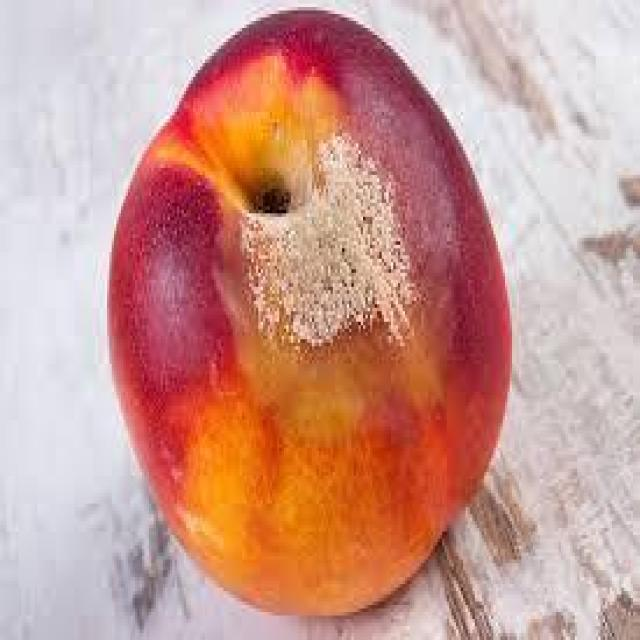maca: (105, 4, 512, 619)
